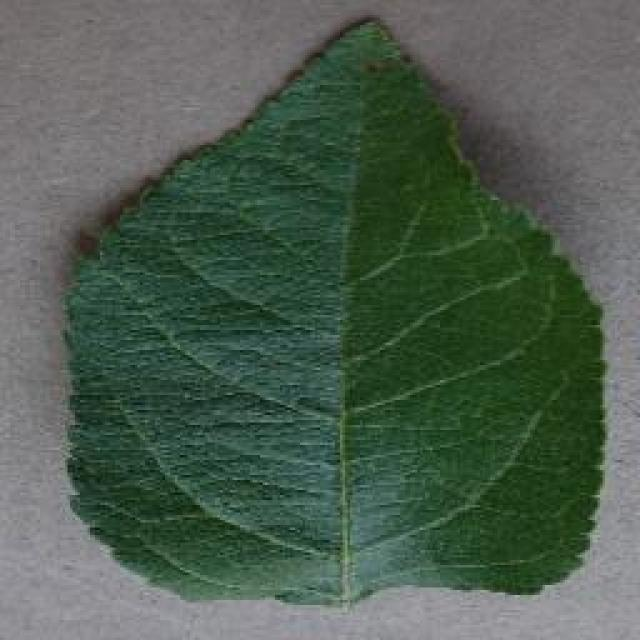apple healthy: (58, 12, 610, 608)
